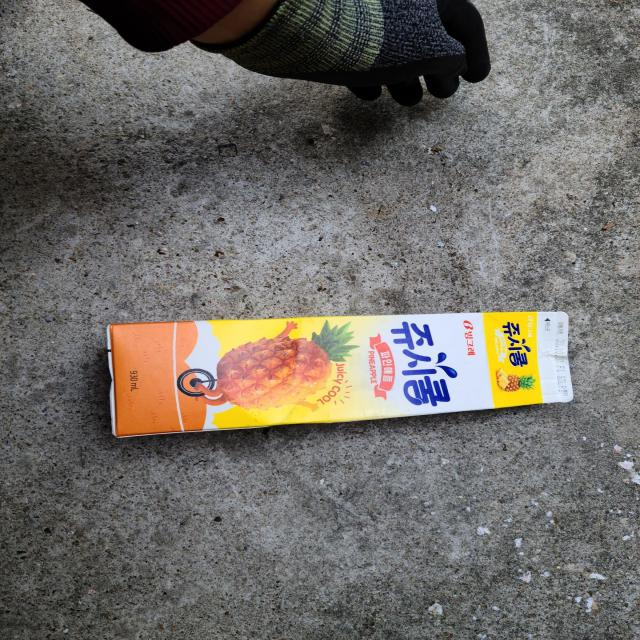paperpack: (107, 312, 574, 438)
